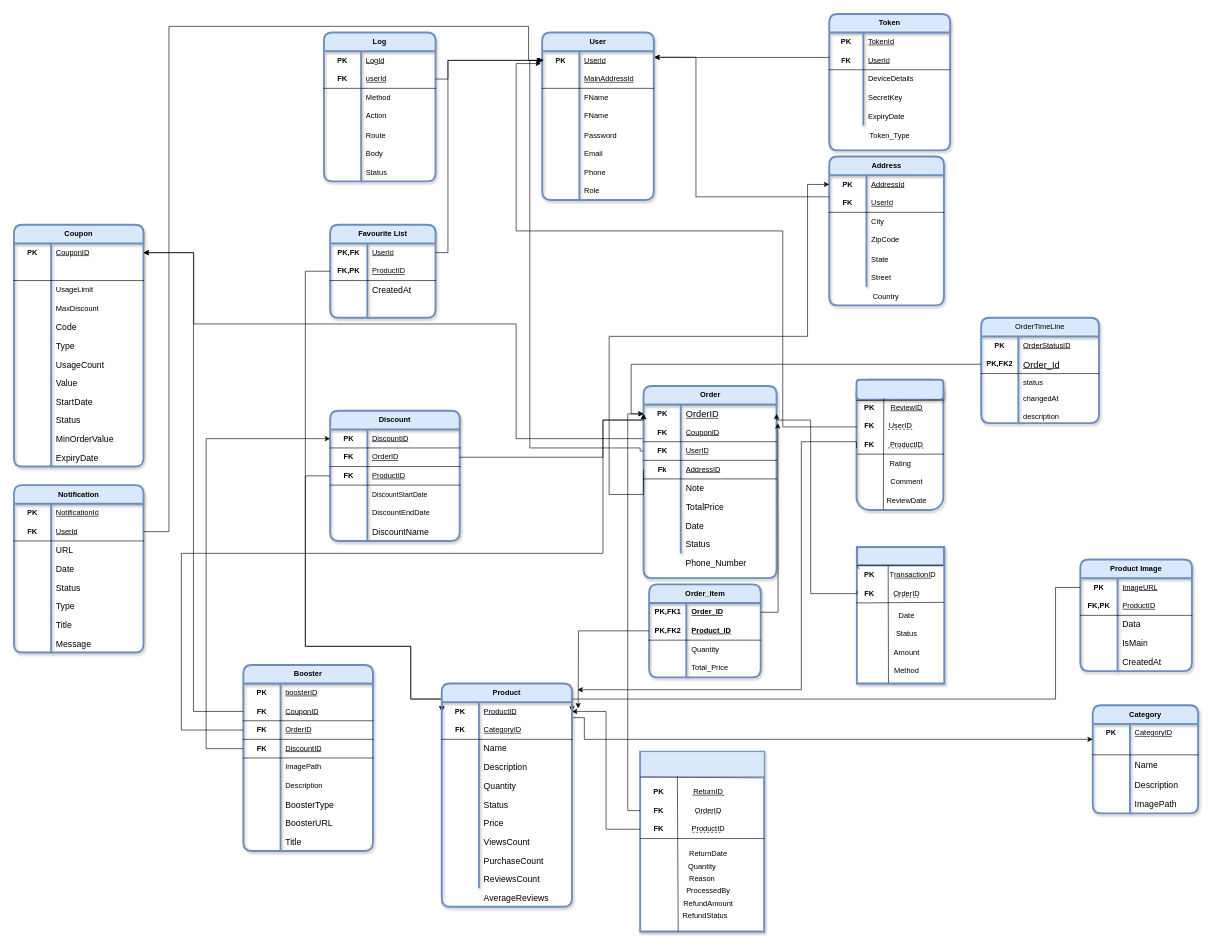
Some shapes in this 1213 by 947 pixel diagram are drawn without their labels. Each missing label, with the centre of its shape:
Payment: pixel 900 556
ReturnedOrder: pixel 702 764
Review: pixel 900 390
